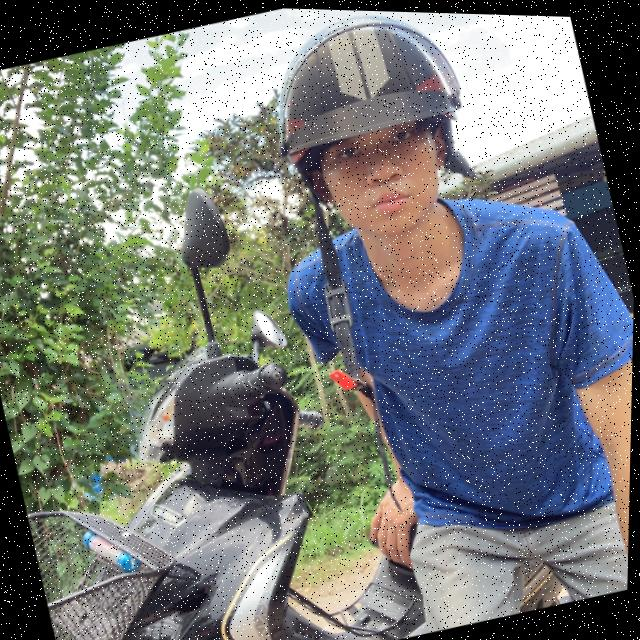illegal_helmet: (242, 6, 571, 532)
